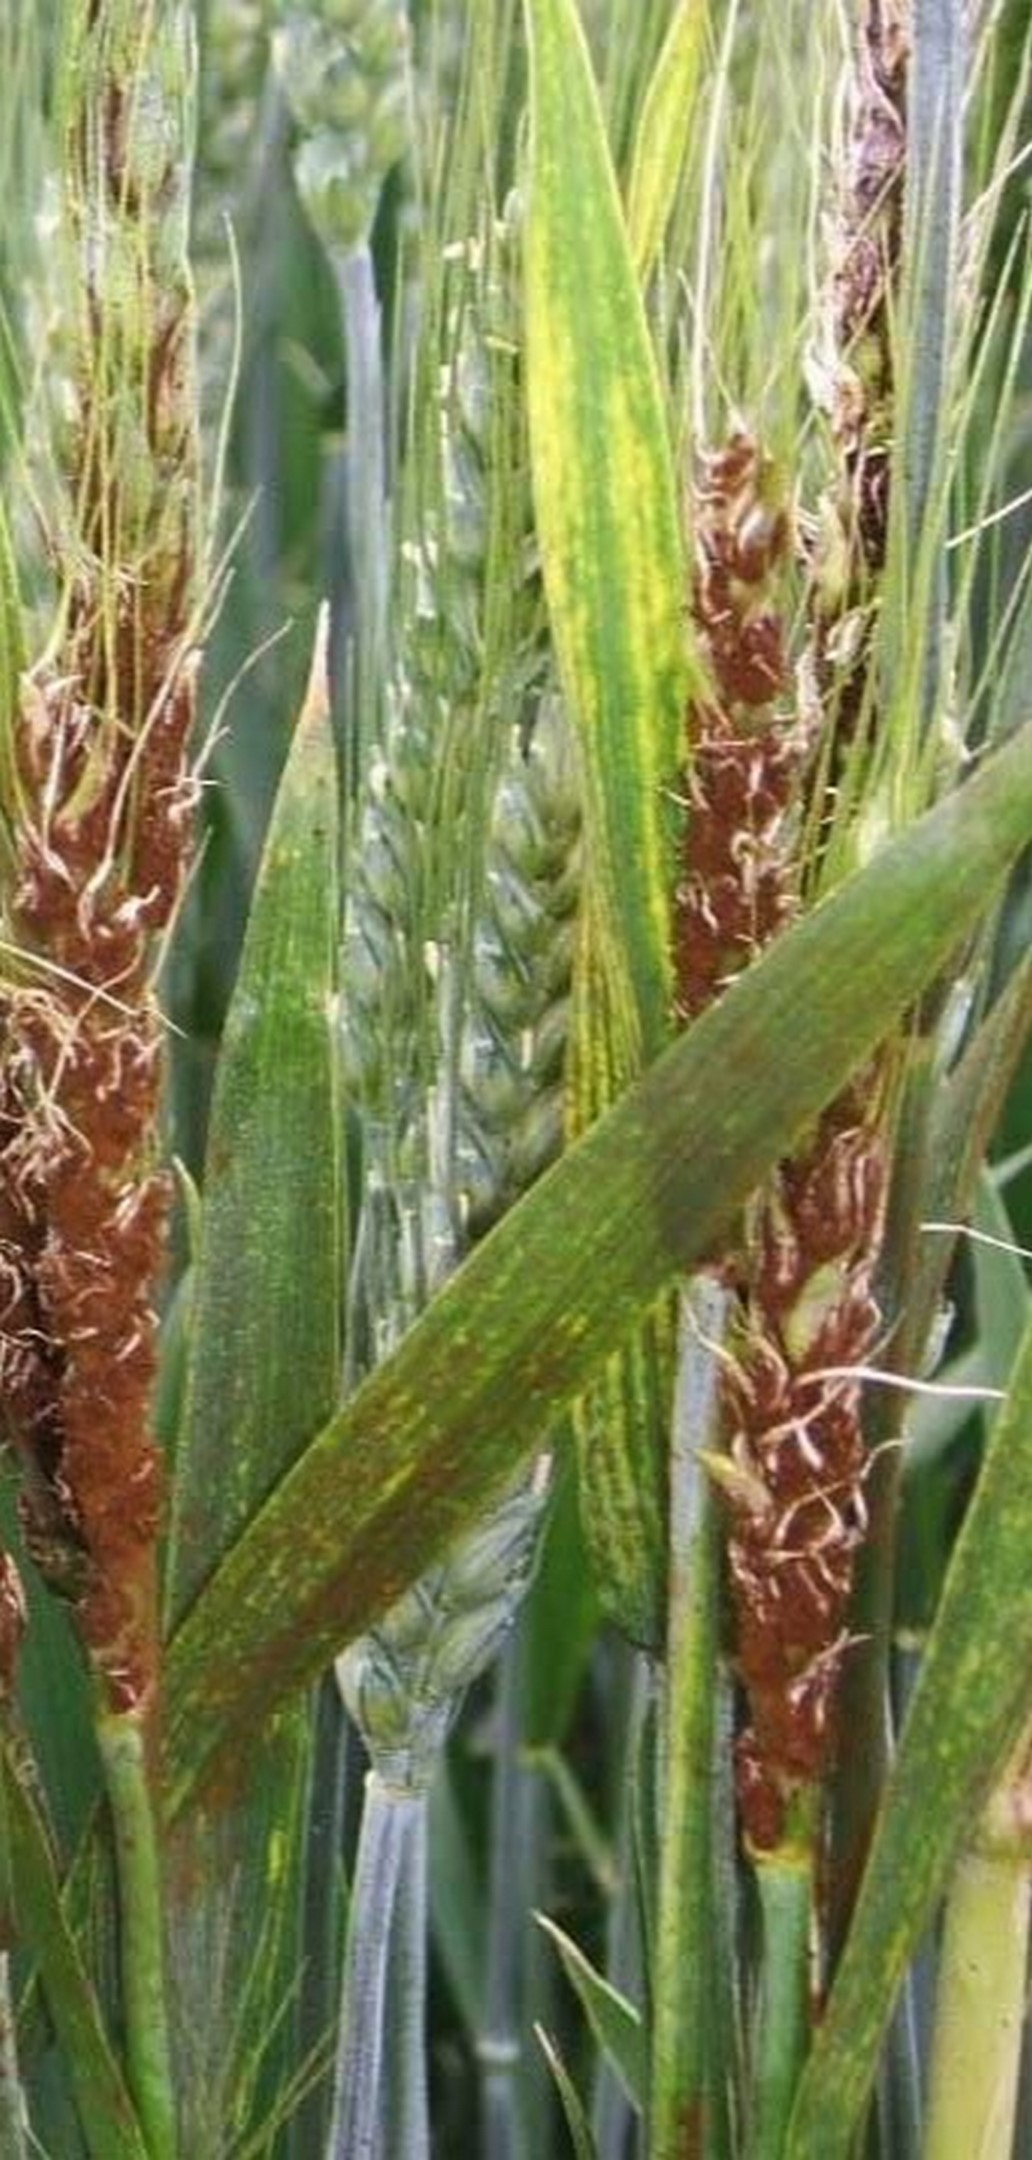Wheat Loose Smut: (661, 438, 908, 1810), (1, 466, 260, 1716)
